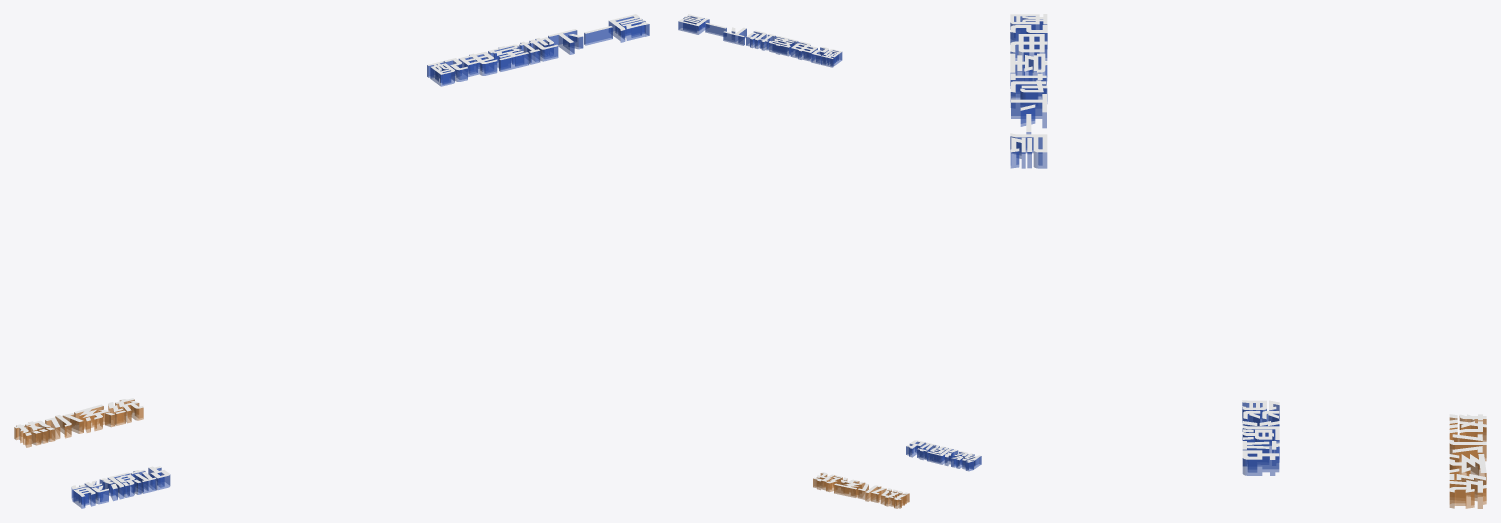
3 renders of one model, left to right at view 1: azimuth 30°, elevation 25°; view 2: azimuth 150°, elevation 25°; view 3: azimuth 270°, elevation 25°, orthographic. The views are drawn at different scales.
Visible parts, largest first — view 1: AFS9512044_配电室, AFS9512043_制热, AFS9512042_制冷; view 2: AFS9512044_配电室, AFS9512043_制热, AFS9512042_制冷; view 3: AFS9512044_配电室, AFS9512043_制热, AFS9512042_制冷.
Boxes of the visible parts, x1,y1,x2,y2 form: AFS9512044_配电室: [427, 14, 649, 86]; AFS9512043_制热: [14, 398, 143, 447]; AFS9512042_制冷: [71, 466, 170, 508]; AFS9512044_配电室: [678, 14, 842, 67]; AFS9512043_制热: [813, 472, 909, 508]; AFS9512042_制冷: [906, 440, 981, 471]; AFS9512044_配电室: [1010, 14, 1047, 168]; AFS9512043_制热: [1449, 414, 1486, 508]; AFS9512042_制冷: [1242, 400, 1279, 475].
Bounding box in the file's own units: 12.27 × 10.45 × 7.73.
Materials: 3 (2 with a texture image).
